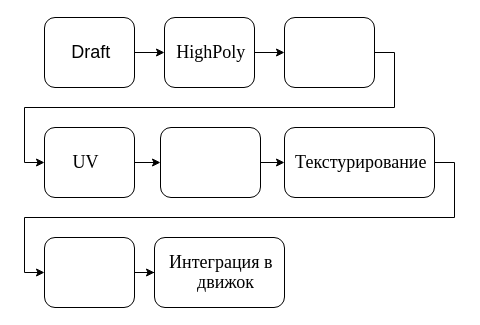
Some shapes in this 480 by 325 pixel diagram are drawn without their labels. The centre of each missing label's shape, as x and y in pixels:
Baking: the point at 210,162
LowPoly: the point at 329,52
Риггинг: the point at 89,272
